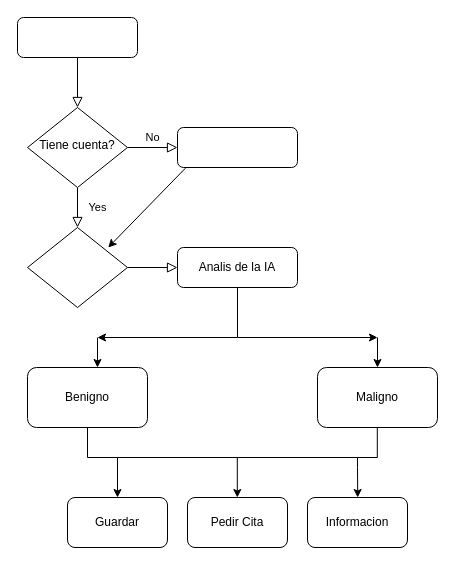
The diagram is 455 pixels wide and 565 high, and some of its shapes have lost their labels. The centre of each missing label's shape, as x and y in pixels:
"Creacion de cuenta" belongs at (x=237, y=147).
"Log in" belongs at (x=77, y=37).
"Subir imagen" belongs at (x=77, y=267).
